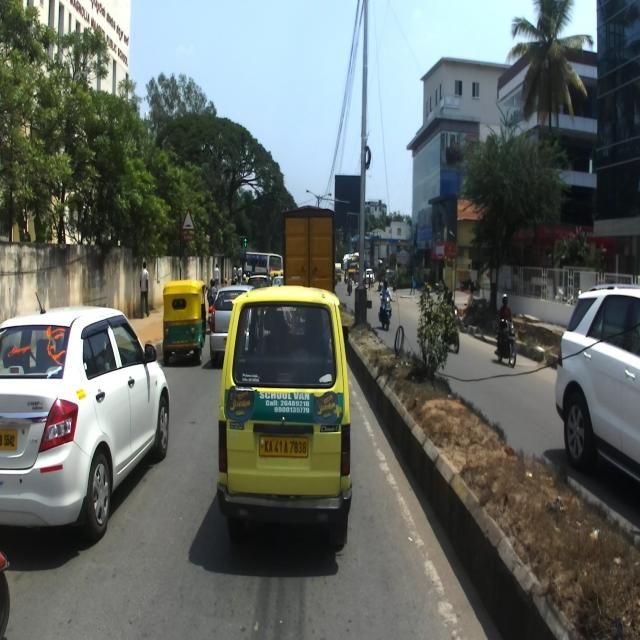Car_Maruti-Suzuki: (0, 292, 170, 550), (217, 283, 353, 562)
Car_TATA: (208, 284, 246, 368)
motorcycle_TVS: (493, 314, 518, 367)
